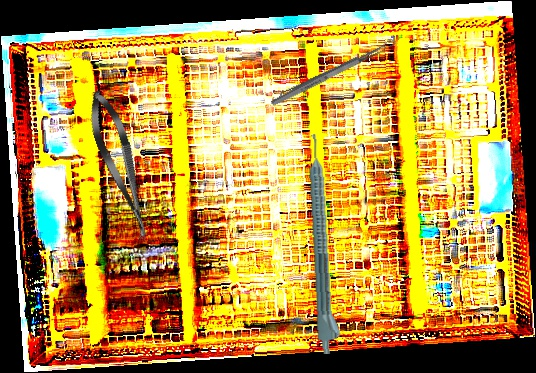Handpiece: (306, 133, 344, 355)
Micro Scissor: (81, 86, 160, 246)
Spatula Surgical: (273, 43, 391, 102)
Surgical Spoon: (269, 36, 398, 109)
